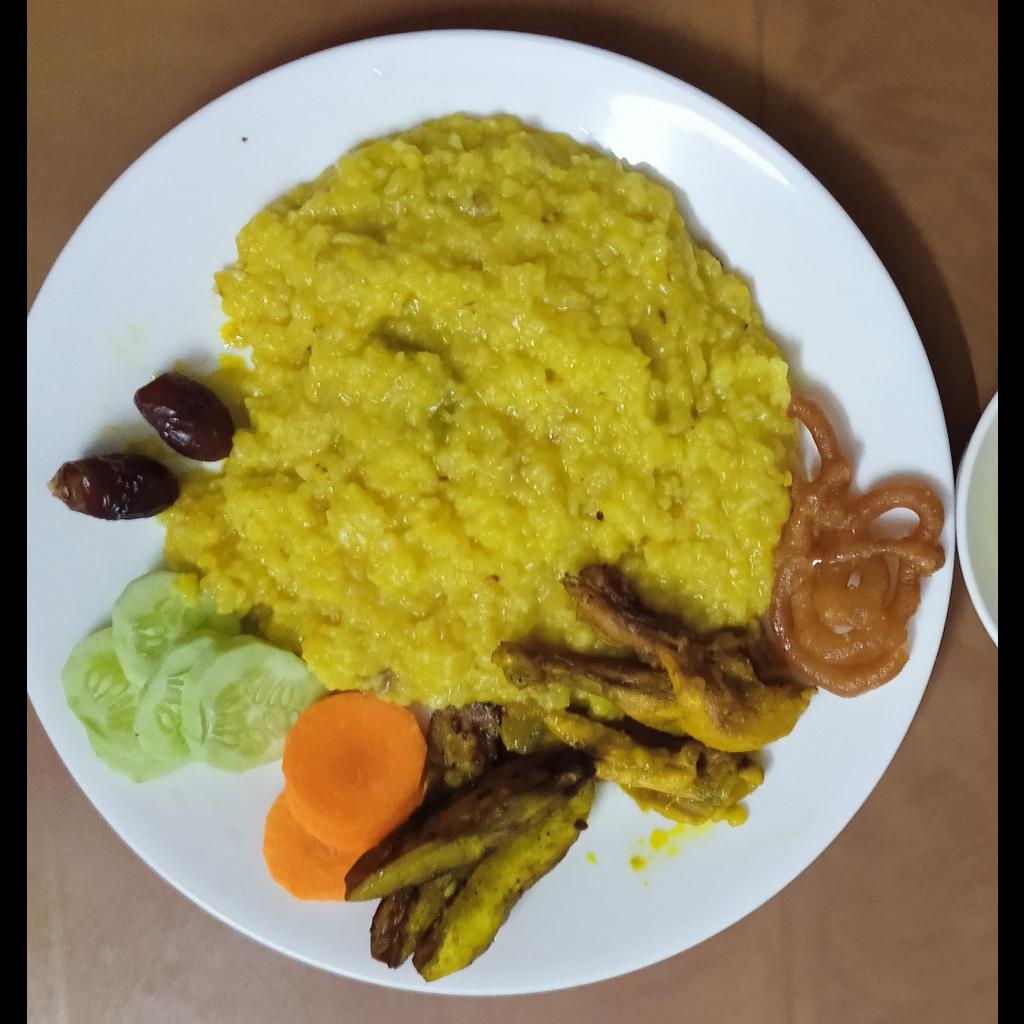carrot: (261, 692, 427, 902)
chicken: (491, 567, 817, 815)
cucumber: (59, 571, 326, 783)
dates: (131, 370, 235, 461), (46, 452, 179, 521)
jilapi: (764, 395, 945, 699)
khichuri: (161, 113, 800, 753)
potol: (345, 703, 595, 985)
